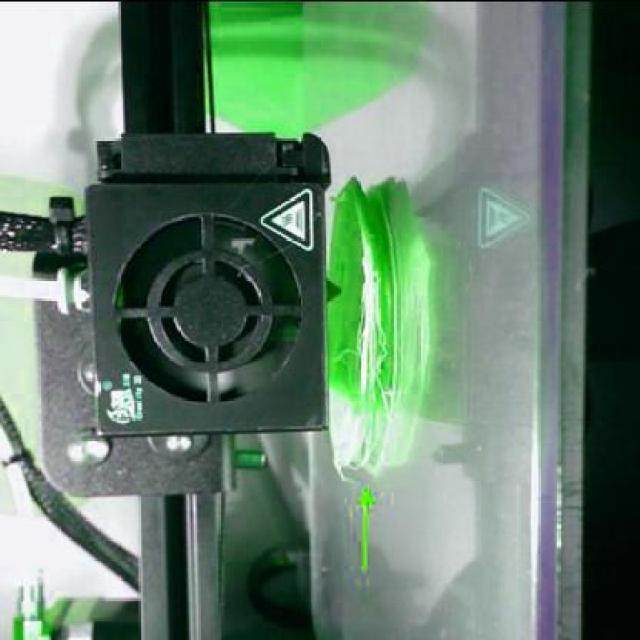spaghetti: (329, 256, 400, 481)
